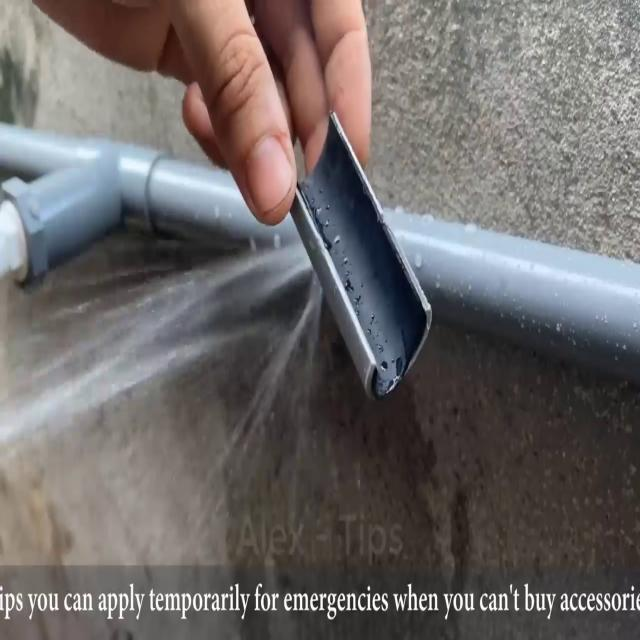leak: (0, 238, 330, 468)
